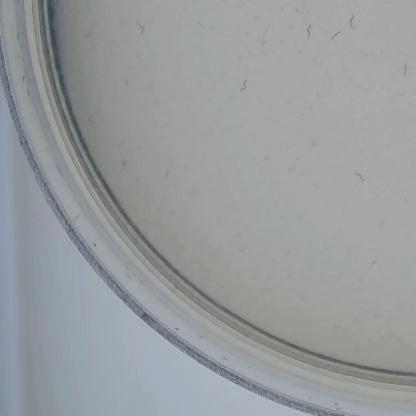worm: (340, 169, 372, 200), (154, 168, 174, 197), (327, 22, 343, 58), (229, 75, 256, 96), (304, 11, 321, 41), (131, 10, 151, 35), (395, 56, 412, 84), (351, 7, 366, 33), (364, 255, 378, 275)
